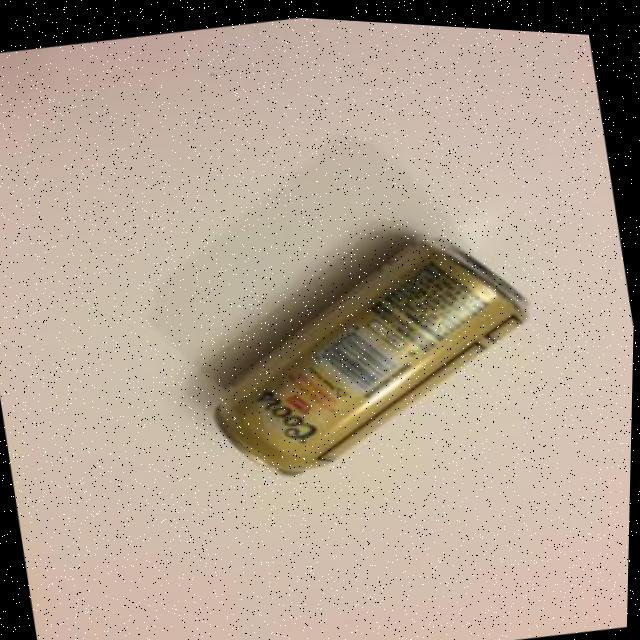metal: (173, 198, 558, 508)
